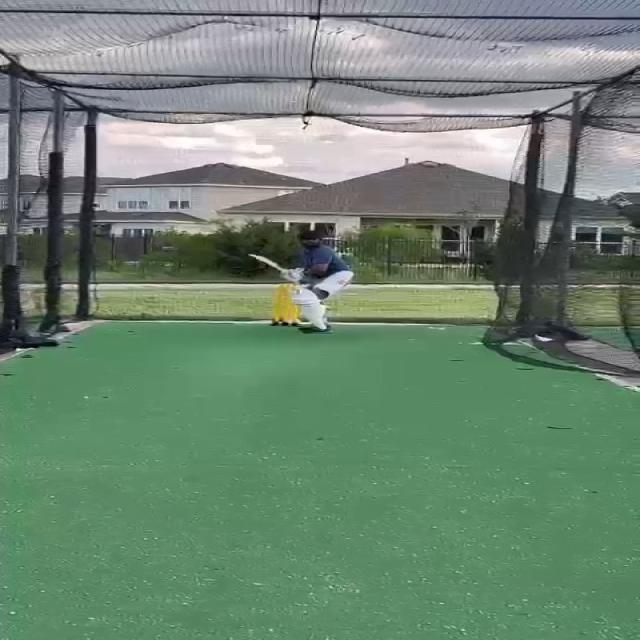batsman: (247, 229, 357, 335)
